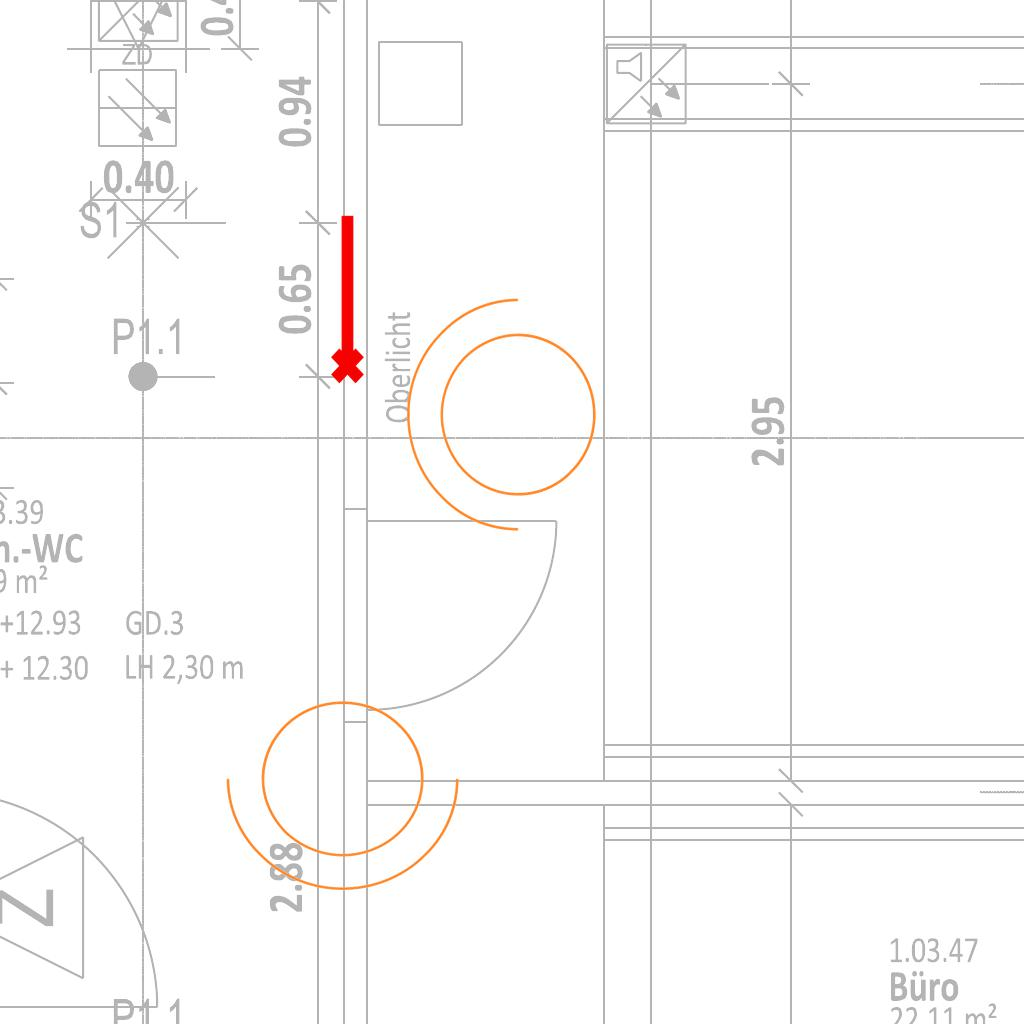ASR_Ansaugoeffnung: (322, 210, 368, 386)
Scheinwerfer_fuer_Alarmbeleuchtung: (217, 676, 481, 901), (396, 289, 621, 553)
